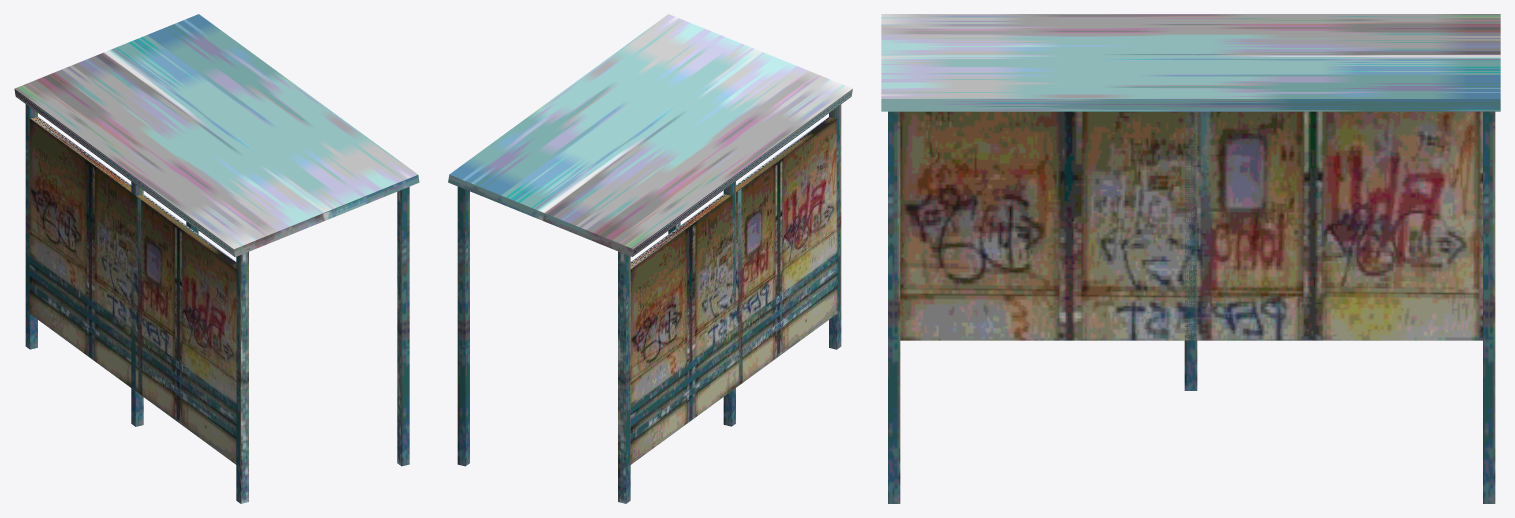
File: busstop.fbx
3 views of the same model, side by side, from view 1: azimuth 30°, elevation 25°; view 2: azimuth 150°, elevation 25°; view 3: azimuth 270°, elevation 25° (orthographic). The views are drawn at different scales.
Visible parts, largest first — view 1: Cube.008; view 2: Cube.008; view 3: Cube.008.
Part boxes in pixels (x1,y1,x2,y2): Cube.008: (14, 14, 419, 503); Cube.008: (448, 14, 852, 503); Cube.008: (881, 14, 1500, 503).
Bounding box in the file's own units: 90.44 × 135 × 185.
1 material, 1 textured.
